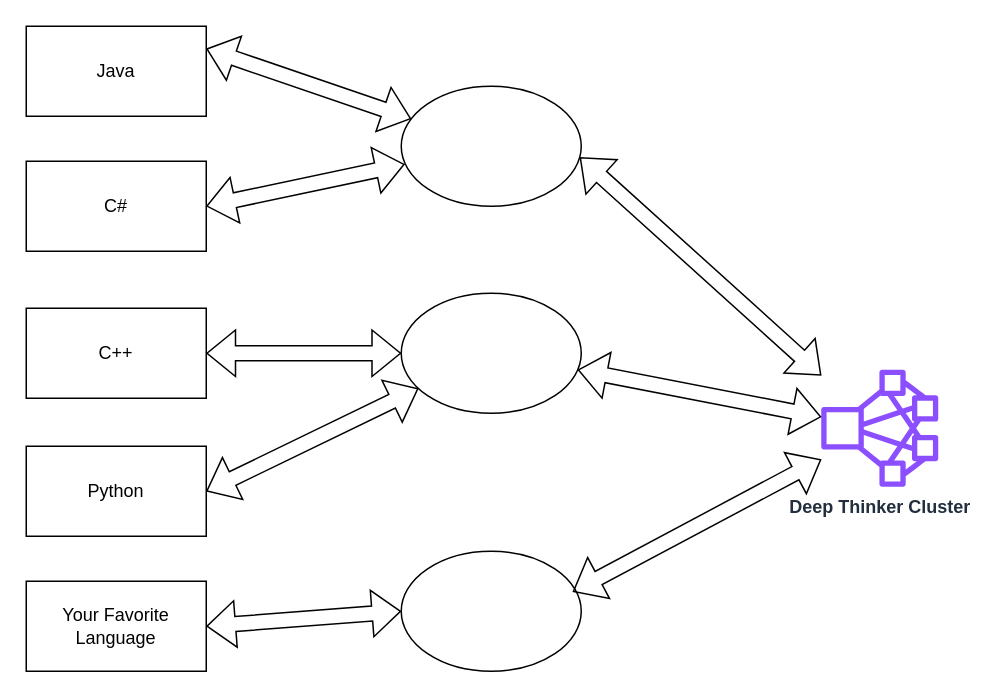
The diagram is 996 pixels wide and 698 high, and some of its shapes have lost their labels. The centre of each missing label's shape, as x and y in pixels:
"GRPC" goes at point (490, 145).
"Your Favorite Protocol" goes at point (490, 610).
"ØMQ" goes at point (490, 352).
